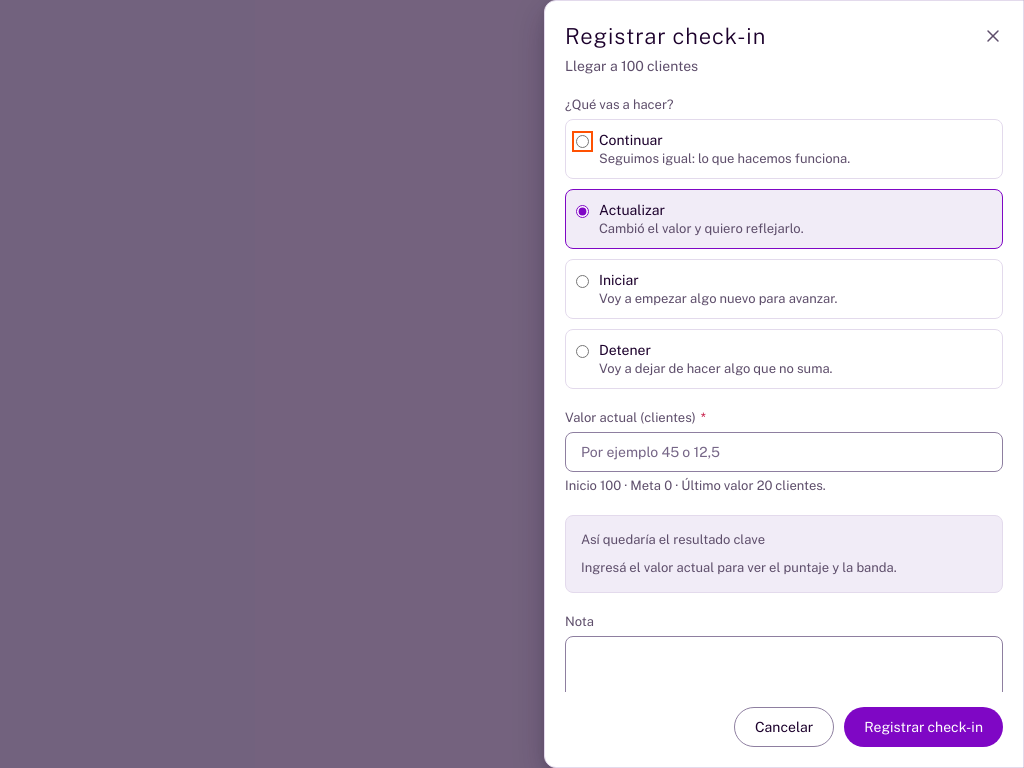
it: CheckInDrawer › meta menor al inicio: el avance va hacia abajo
In the field labelled "Valor actual (clientes)*": (784, 452) [565,432,1003,472], type "30"
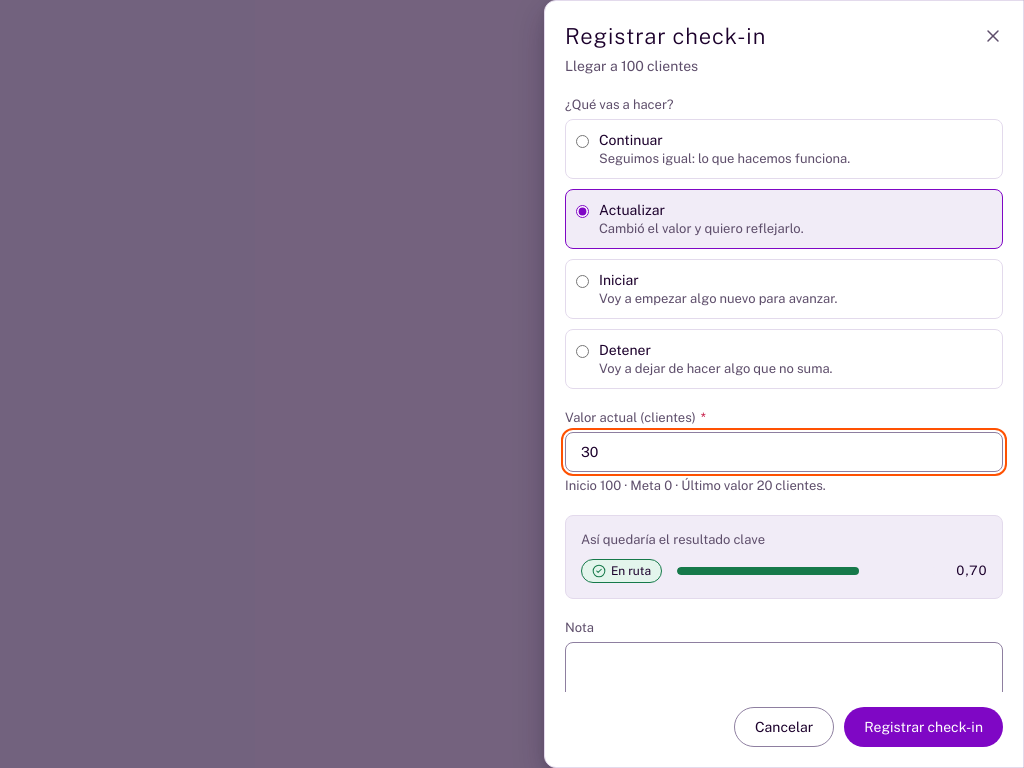
Now the element with test id "check-in-preview" shows "En ruta", box [611,564,651,578]
Now the element with test id "check-in-preview" shows "0,70", box [956,563,987,578]
